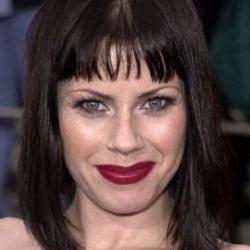face: (10, 7, 223, 243)
